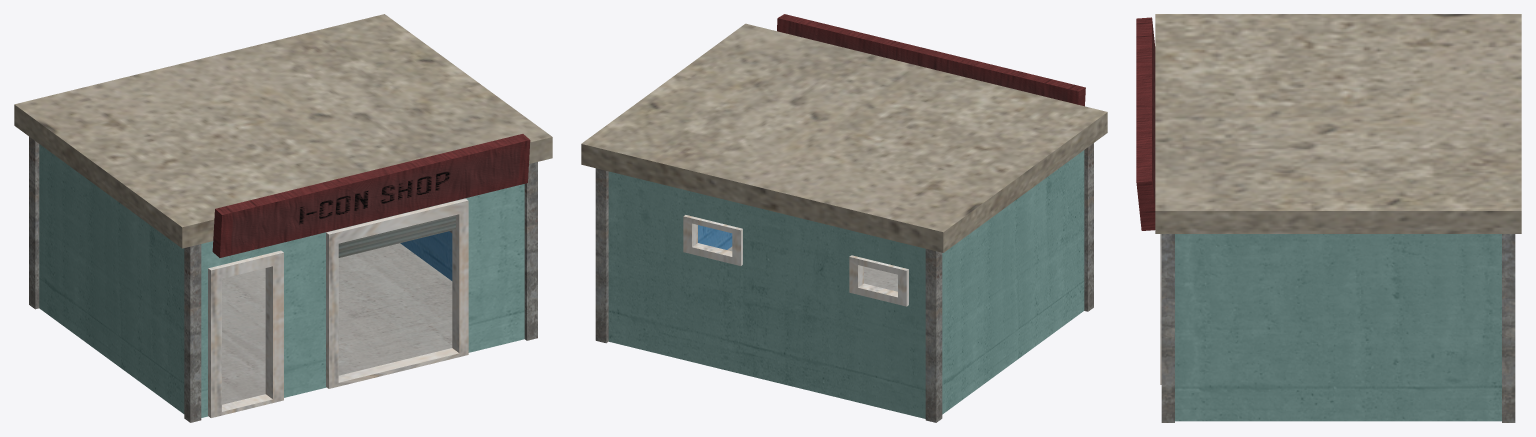
The model's file is open house.FBX.
3 renders of one model, left to right at view 1: azimuth 30°, elevation 25°; view 2: azimuth 150°, elevation 25°; view 3: azimuth 270°, elevation 25°, orthographic. The views are drawn at different scales.
Visible parts, largest first — view 1: Box001; view 2: Box001; view 3: Box001.
Part boxes in pixels (x1=…): Box001: x1=14, y1=14, x2=552, y2=422; Box001: x1=581, y1=14, x2=1107, y2=422; Box001: x1=1136, y1=14, x2=1521, y2=422.
Bounding box in the file's own units: 504 × 276 × 416.
